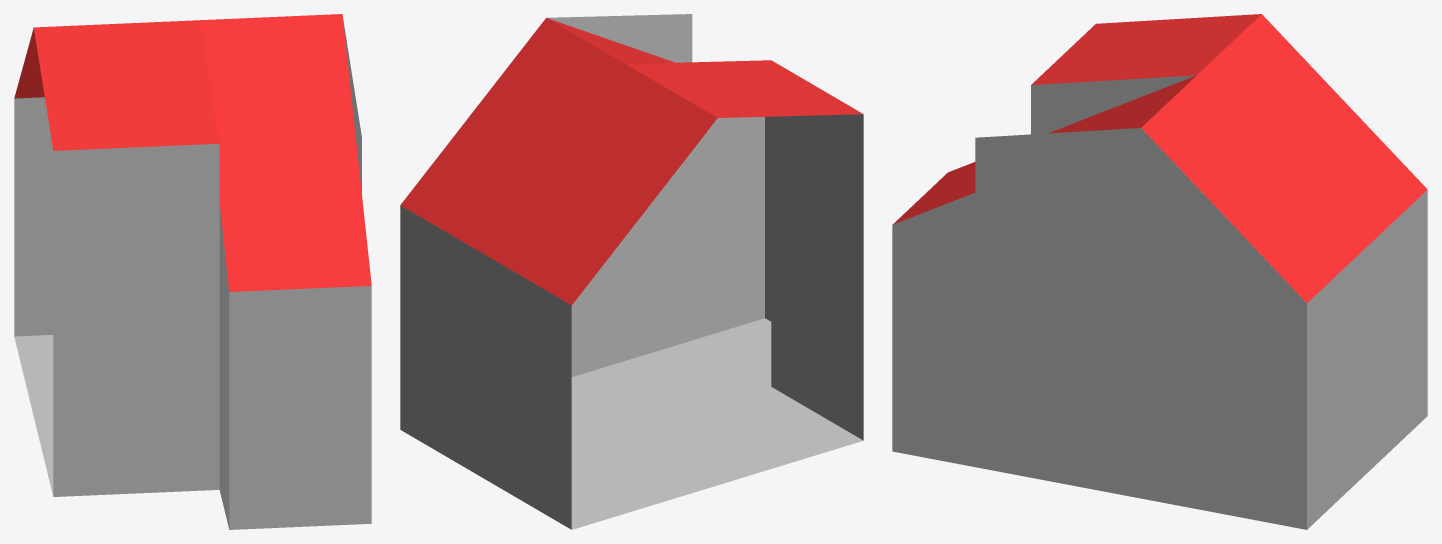
Rendered from pb-9635c104-7f36-11f0-be34-9c7bef4dcf4c.dae.
3 views of the same model, side by side, from view 1: azimuth 30°, elevation 25°; view 2: azimuth 150°, elevation 25°; view 3: azimuth 270°, elevation 25° (orthographic). The views are drawn at different scales.
Size of the model in its own units: 9.2 by 11.78 by 9.
